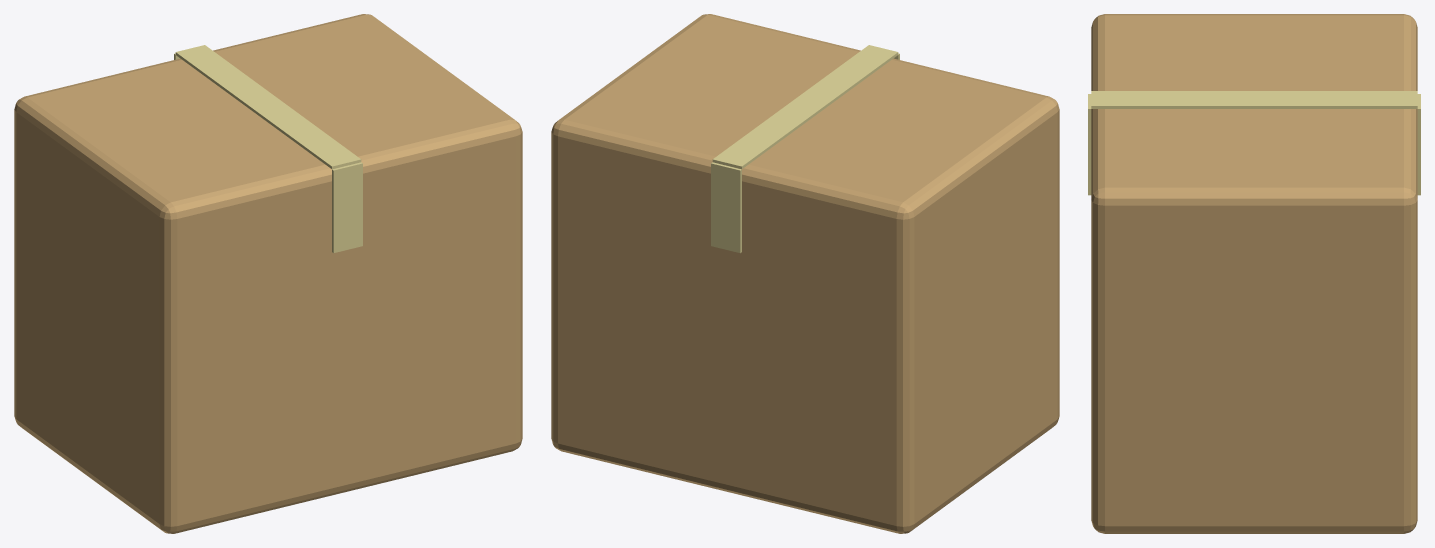
Rendered from Cardboard Box.fbx.
3 renders of one model, left to right at view 1: azimuth 30°, elevation 25°; view 2: azimuth 150°, elevation 25°; view 3: azimuth 270°, elevation 25°, orthographic. The views are drawn at different scales.
Parts seen in each view (by area): view 1: Box, TapeTop, TapeBack; view 2: Box, TapeTop, TapeFront; view 3: Box, TapeTop, TapeBack, TapeFront.
Part boxes in pixels (x1,y1,x2,y2): Box: (14, 14, 522, 533); TapeTop: (175, 45, 361, 169); TapeBack: (332, 162, 362, 253); Box: (551, 14, 1059, 533); TapeTop: (712, 45, 898, 169); TapeFront: (711, 162, 741, 253); Box: (1091, 14, 1417, 533); TapeTop: (1091, 91, 1417, 108); TapeBack: (1088, 94, 1091, 195); TapeFront: (1417, 94, 1420, 195).
Size of the model in its own units: 160 by 141 by 122.
